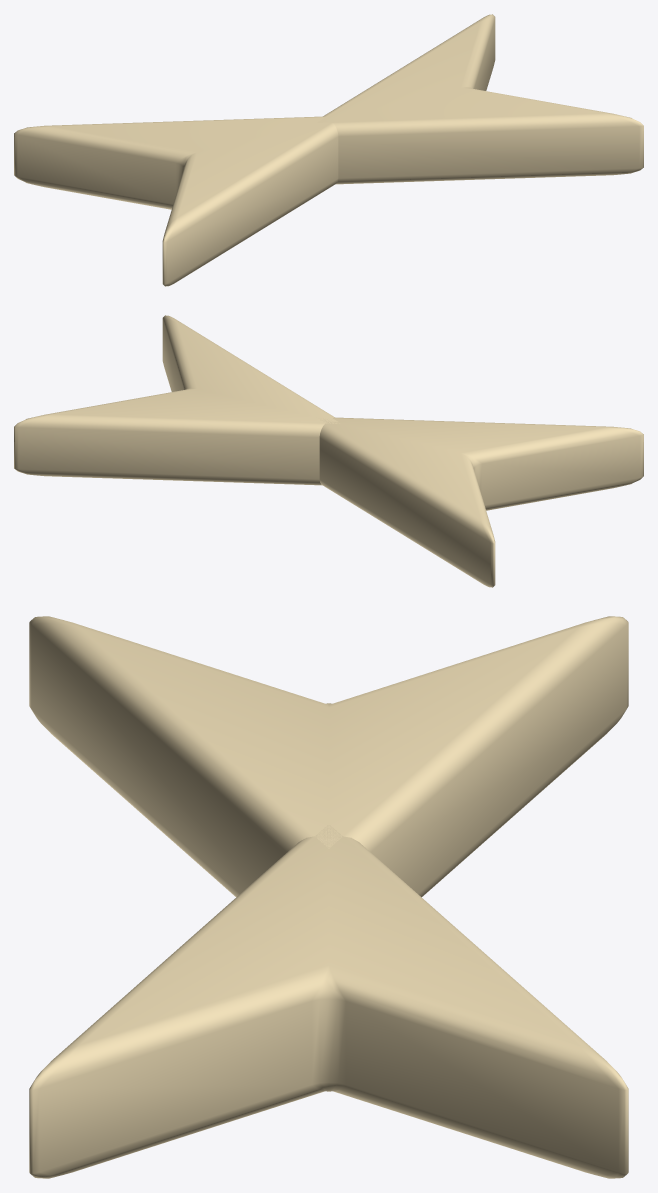
File: arrowhead_clasp.glb
The picture shows the model from 3 angles, top to bottom: view 1: azimuth 30°, elevation 25°; view 2: azimuth 150°, elevation 25°; view 3: azimuth 270°, elevation 25°; orthographic projection. The views are drawn at different scales.
Parts seen in each view (by area): view 1: ArrowL; view 2: ArrowL; view 3: ArrowL.
Boxes of the visible parts, x1,y1,x2,y2 form: ArrowL: (14, 14, 643, 286); ArrowL: (14, 315, 643, 587); ArrowL: (29, 616, 628, 1178).
Size of the model in its own units: 1.81 by 0.22 by 0.9772.
